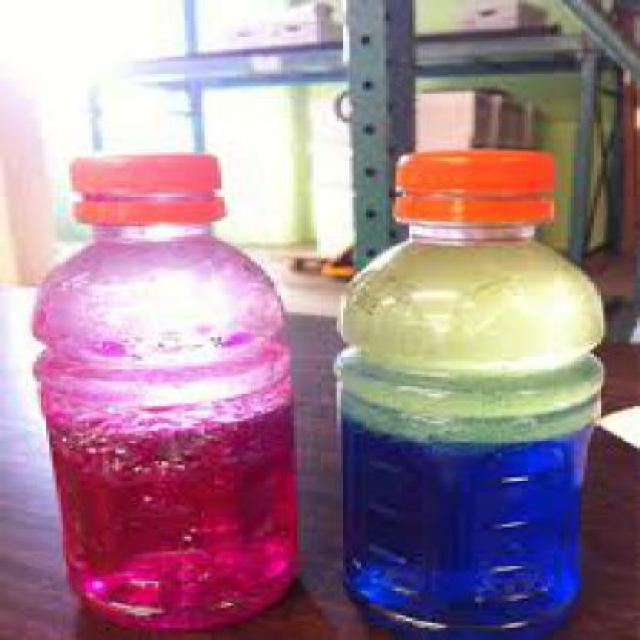Drinking: (326, 122, 620, 638), (30, 140, 304, 632)
